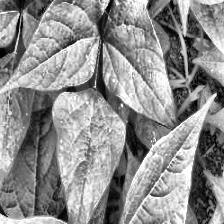Bean Rust: (98, 0, 185, 140), (0, 53, 33, 180), (163, 203, 206, 224)
